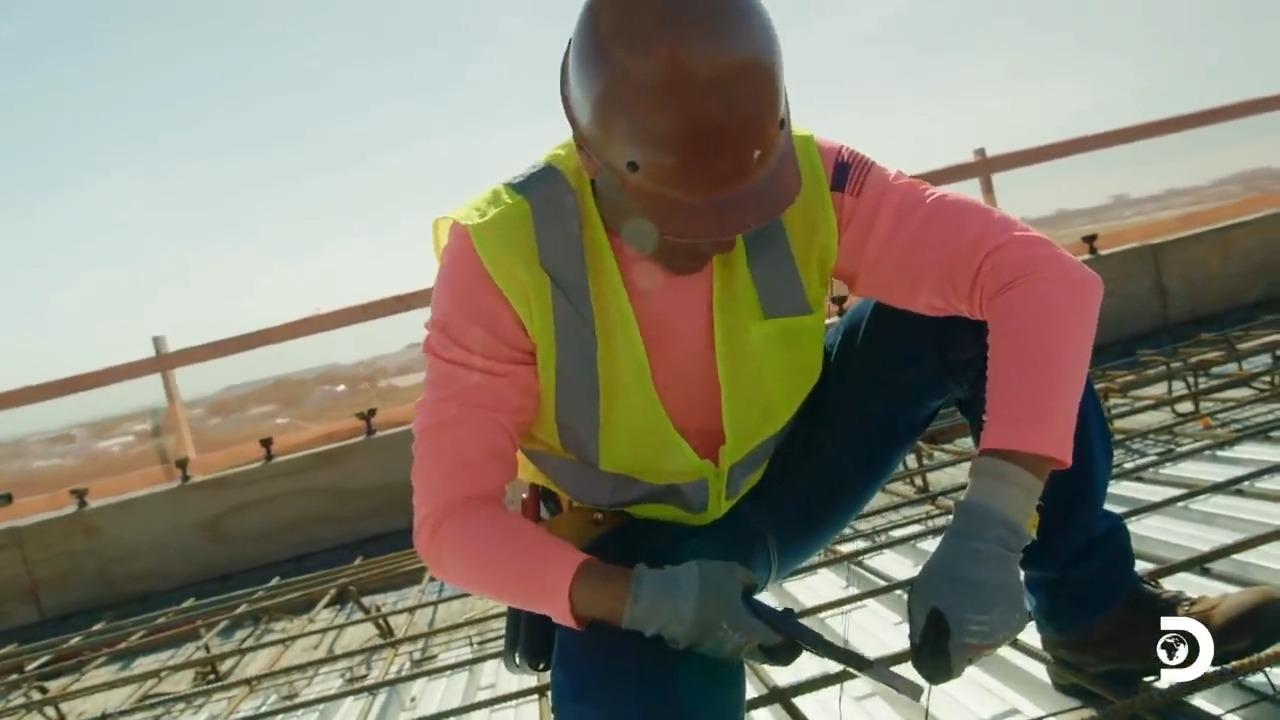Gloves: (888, 523, 1036, 667), (615, 565, 771, 662)
Helmet: (558, 0, 802, 244)
Person: (407, 0, 1278, 719)
Safety Boot: (1042, 595, 1269, 705)
Safety Vest: (506, 245, 848, 488)
